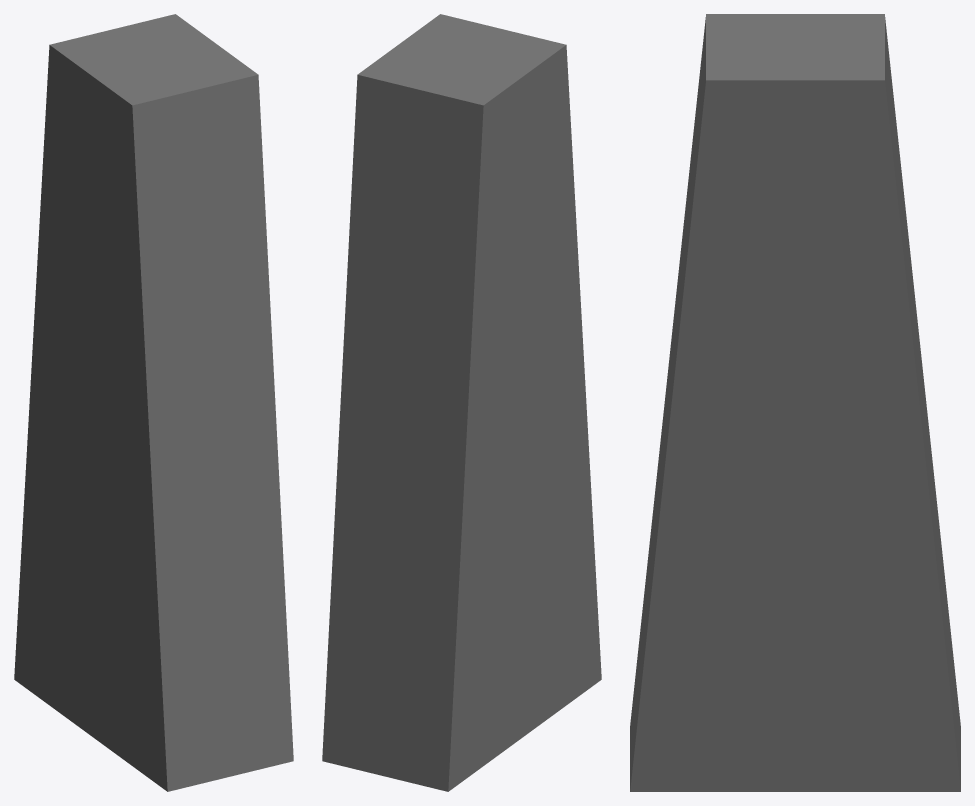
Rendered from Plumbing2_C2_02.fbx.
3 views of the same model, side by side, from view 1: azimuth 30°, elevation 25°; view 2: azimuth 150°, elevation 25°; view 3: azimuth 270°, elevation 25° (orthographic). The views are drawn at different scales.
Visible parts, largest first — view 1: Plumbing2_C2_02; view 2: Plumbing2_C2_02; view 3: Plumbing2_C2_02.
Boxes of the visible parts, bbox=[...] form: Plumbing2_C2_02: bbox=[14, 14, 293, 791]; Plumbing2_C2_02: bbox=[322, 14, 601, 791]; Plumbing2_C2_02: bbox=[630, 14, 960, 791].
Bounding box in the file's own units: 1.02 × 5.12 × 2.15.
